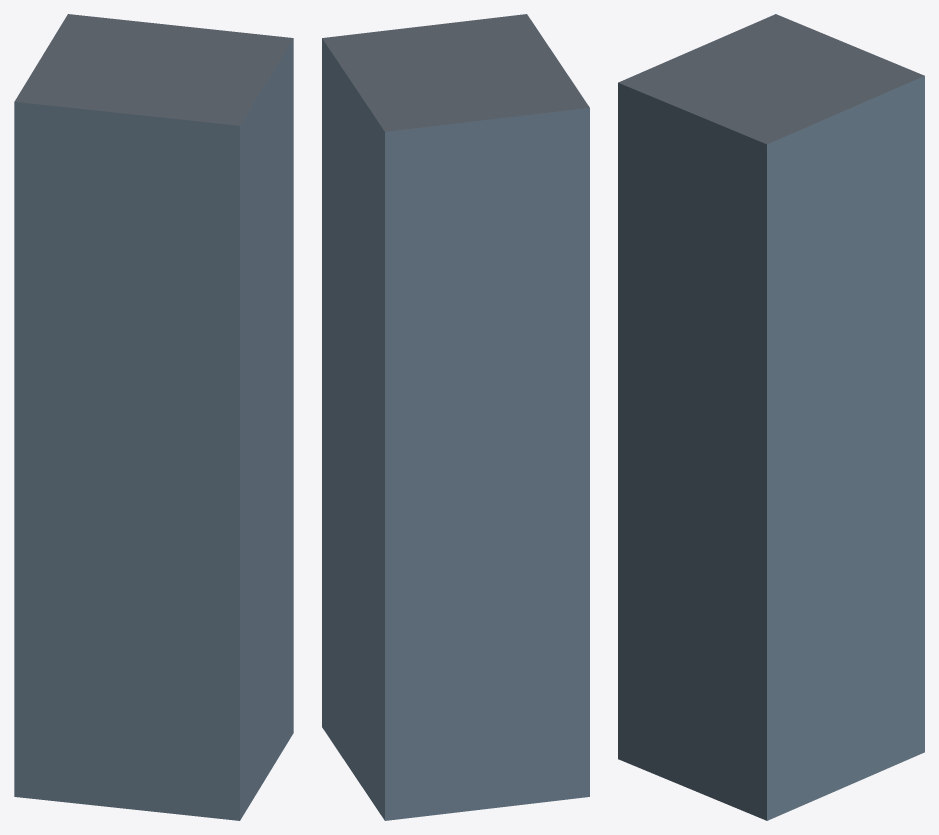
The picture shows the model from 3 angles, left to right: view 1: azimuth 30°, elevation 25°; view 2: azimuth 150°, elevation 25°; view 3: azimuth 270°, elevation 25°; orthographic projection. The views are drawn at different scales.
Parts seen in each view (by area): view 1: HP-w447024809; view 2: HP-w447024809; view 3: HP-w447024809.
Boxes of the visible parts, x1,y1,x2,y2 form: HP-w447024809: (14, 14, 293, 820); HP-w447024809: (322, 14, 589, 820); HP-w447024809: (618, 14, 924, 820).
Bounding box in the file's own units: 70.72 × 171 × 70.3.
